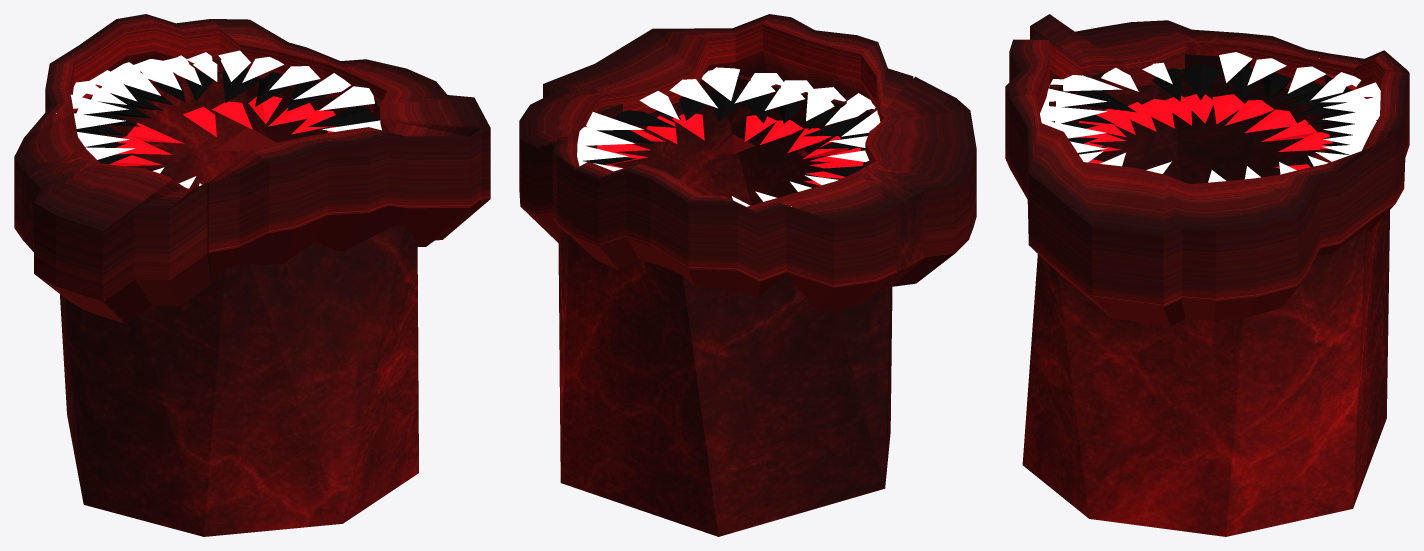
The model's file is Megalodon.glb.
3 views of the same model, side by side, from view 1: azimuth 30°, elevation 25°; view 2: azimuth 150°, elevation 25°; view 3: azimuth 270°, elevation 25° (orthographic). The views are drawn at different scales.
Visible parts, largest first — view 1: Cylinder, Mouth, Teeth, Teeth.001, Teeth.002; view 2: Cylinder, Mouth, Teeth, Teeth.001, Teeth.002; view 3: Cylinder, Mouth, Teeth, Teeth.002, Teeth.001.
Part boxes in pixels (box(x1,y1,x2,y2)): Cylinder: box(60, 55, 418, 536); Mouth: box(14, 14, 490, 323); Teeth: box(56, 50, 381, 188); Teeth.001: box(76, 68, 379, 176); Teeth.002: box(109, 96, 337, 166); Cylinder: box(558, 71, 892, 536); Mouth: box(519, 14, 976, 310); Teeth: box(577, 67, 880, 206); Teeth.001: box(583, 89, 868, 192); Teeth.002: box(597, 113, 863, 185); Cylinder: box(1022, 53, 1389, 536); Mouth: box(1005, 14, 1409, 325); Teeth: box(1040, 52, 1380, 182); Teeth.002: box(1076, 94, 1332, 170); Teeth.001: box(1061, 64, 1354, 182).
Size of the model in its own units: 45.02 by 37.69 by 35.72.
4 materials, 1 textured.
